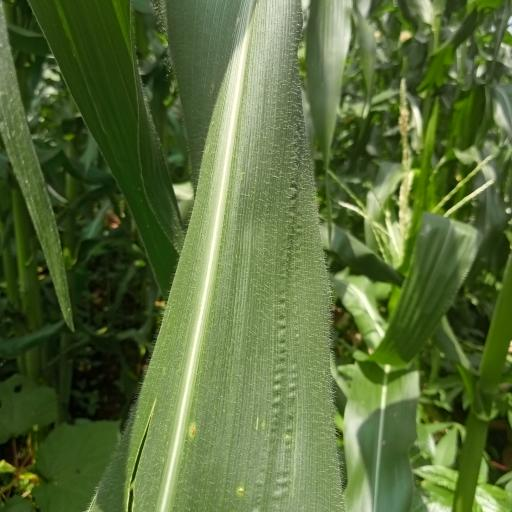Corn_Brown_Spots: (135, 0, 358, 509)
